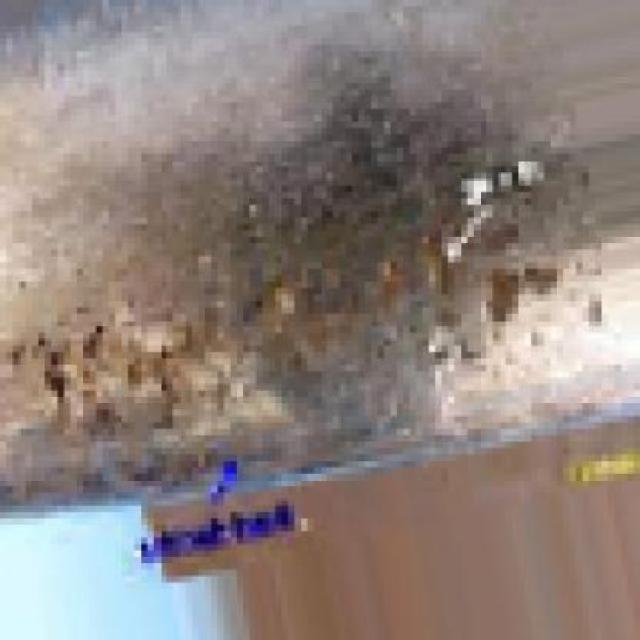defective: (0, 4, 640, 550)
